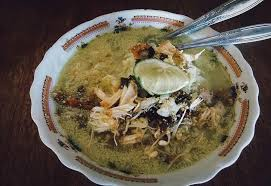soto: (53, 16, 255, 169)
